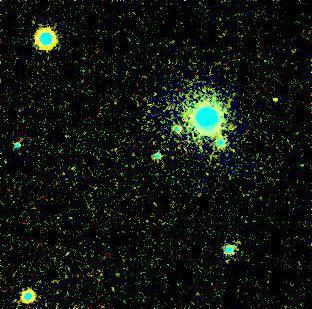star: (217, 112, 247, 142)
